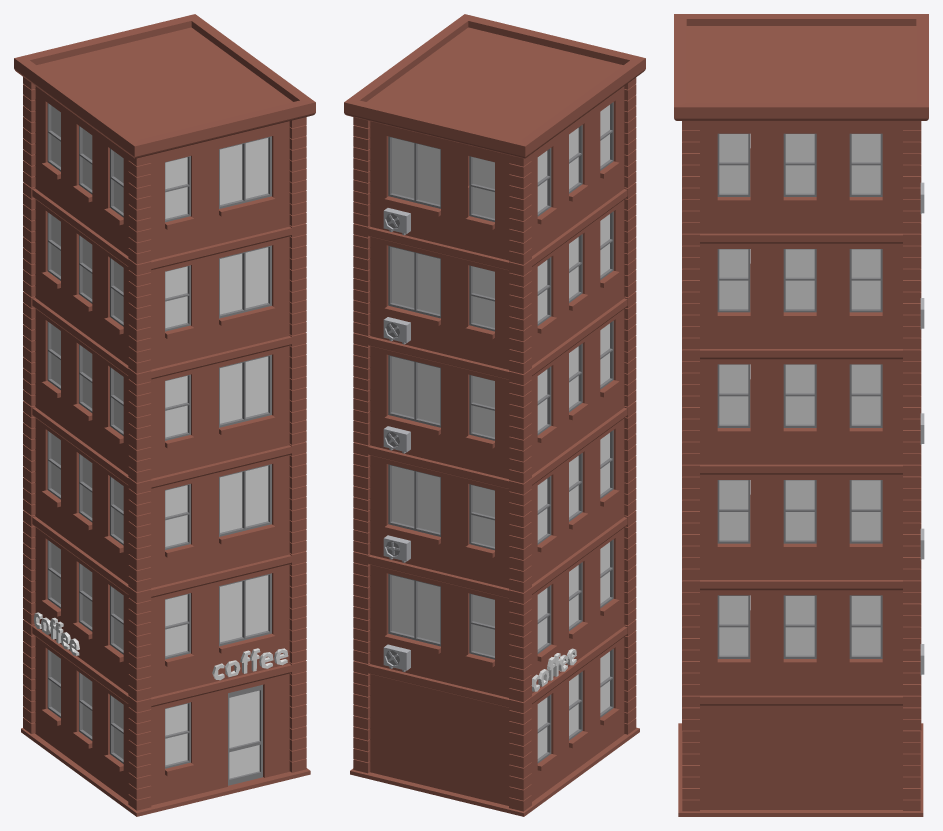
The picture shows the model from 3 angles, left to right: view 1: azimuth 30°, elevation 25°; view 2: azimuth 150°, elevation 25°; view 3: azimuth 270°, elevation 25°; orthographic projection. The views are drawn at different scales.
Parts seen in each view (by area): view 1: Building_01, Door, neon sight1, neon sight0; view 2: Building_01, neon sight0, Conditioner.002, Conditioner.003, Conditioner.004, Conditioner.005; view 3: Building_01.
Boxes of the visible parts, x1,y1,x2,y2 form: Building_01: (14,14,315,816); Door: (228,684,262,785); neon sight1: (212,648,288,680); neon sight0: (33,612,79,655); Building_01: (344,14,645,816); neon sight0: (531,648,576,691); Conditioner.002: (383,535,410,562); Conditioner.003: (383,426,410,453); Conditioner.004: (383,317,410,344); Conditioner.005: (383,208,410,235); Building_01: (674,14,928,816).
Bounding box in the file's own units: 490 × 1740 × 565.
